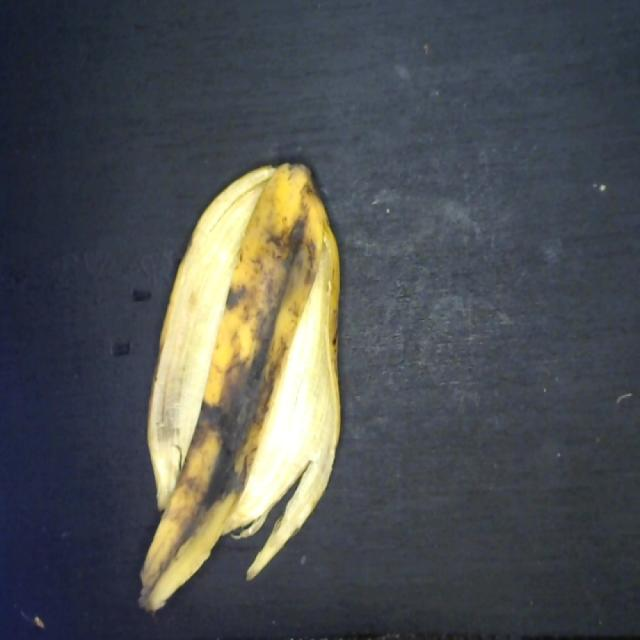biodegradable: (122, 147, 344, 623)
